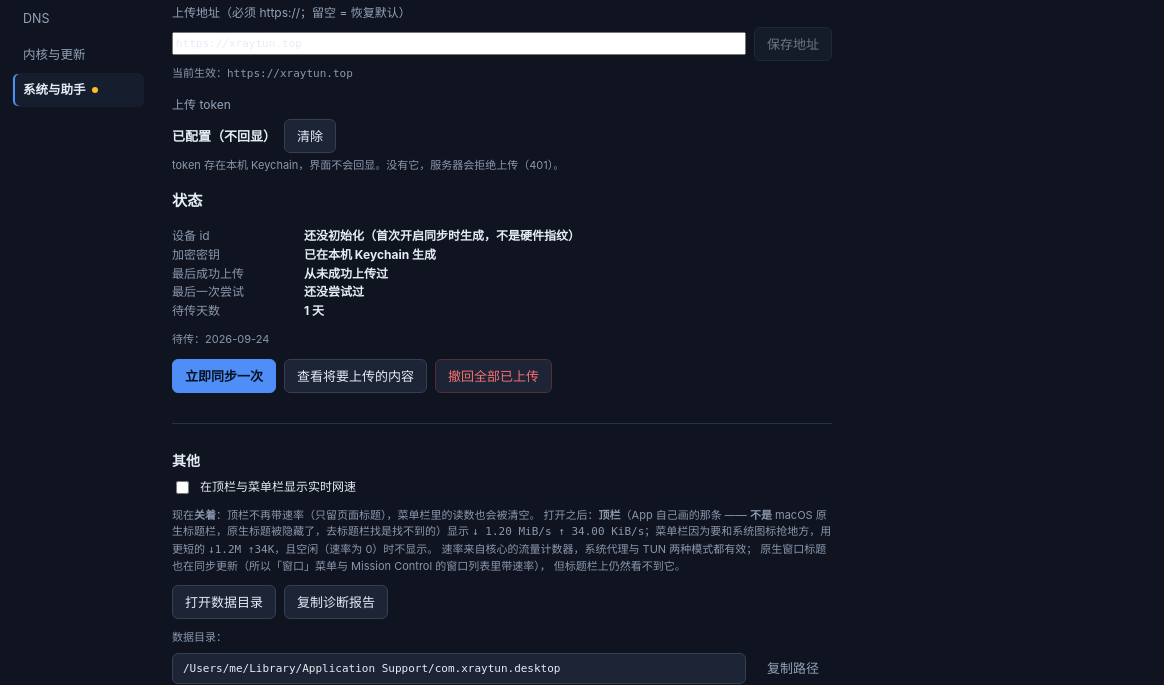
it: 审计同步 · 立即同步一次 › 失败：显示后端给的原因，且**不出现**成功文案
(page scrolled)
Click the button "立即同步一次" at (224, 376), box [172,359,276,393]
(page scrolled)
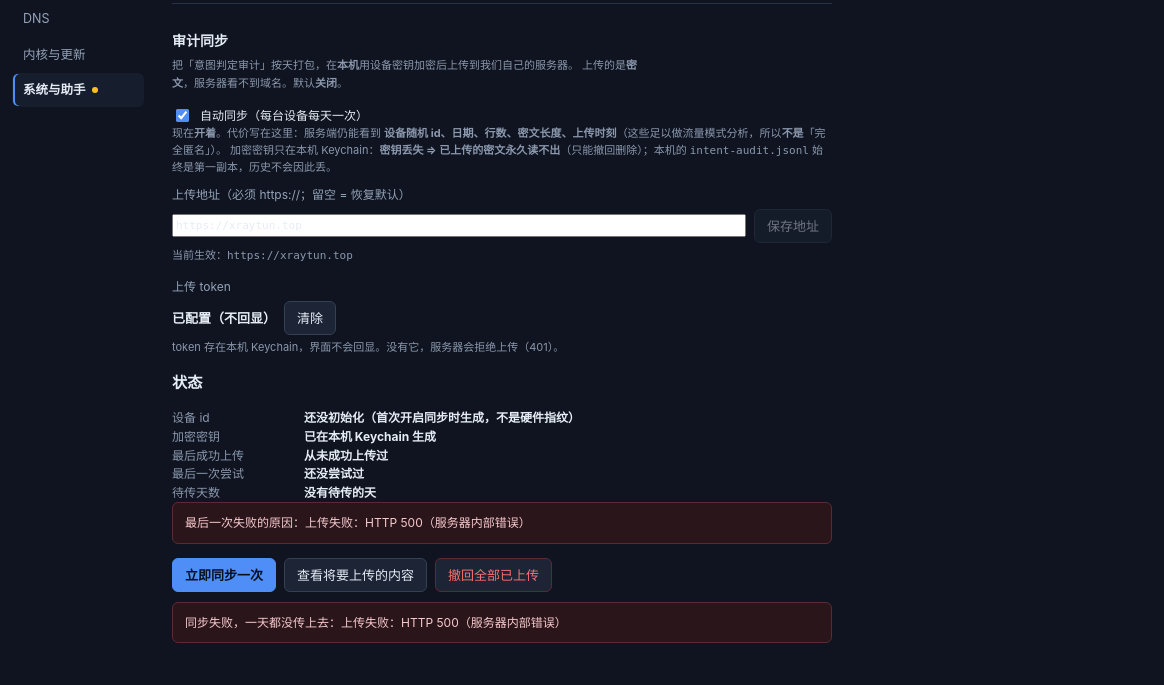
Result: the element with id "set-audit-sync" shows "HTTP 500" at [305,515,531,530]
Result: the element with id "set-audit-sync" shows "同步失败" at [185,615,567,630]
